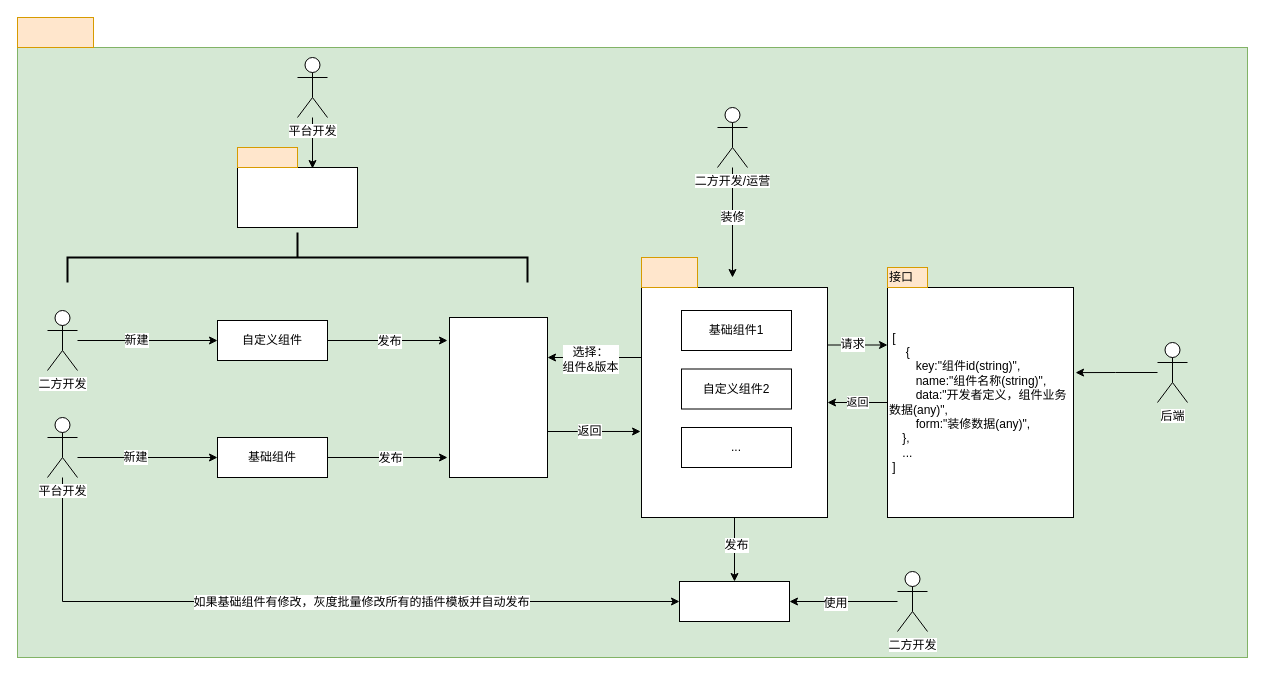
This 1265x675 diagram has some shape labels left out. The centre of each missing label's shape, as x and y in pixels:
"tnpm仓库" belongs at point 498,397.
"支付宝插件平台" belongs at point 734,601.
"约束自定义组件的数据格式符合后端接口数据、etc..." belongs at point 297,197.
"组件平台" belongs at point 267,157.
"装修商详 插件模板" belongs at point 669,272.
"长期规划" belongs at point 55,32.
